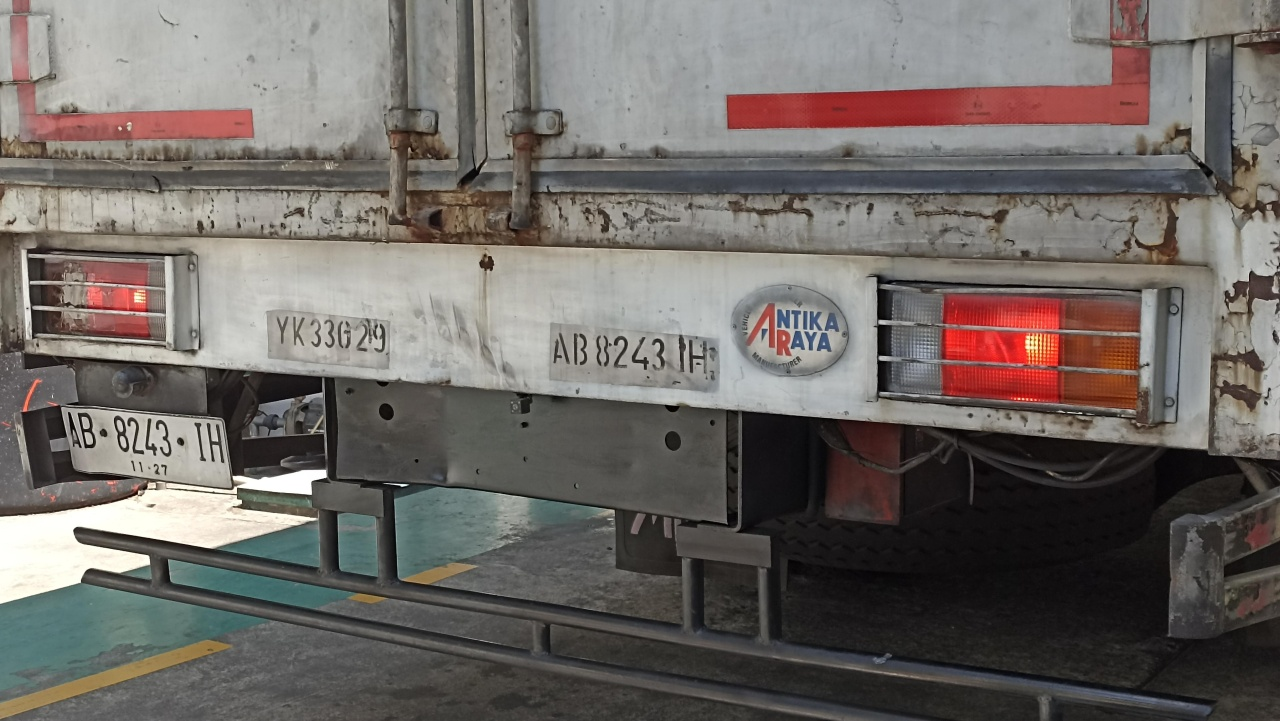plate: (62, 405, 236, 490)
